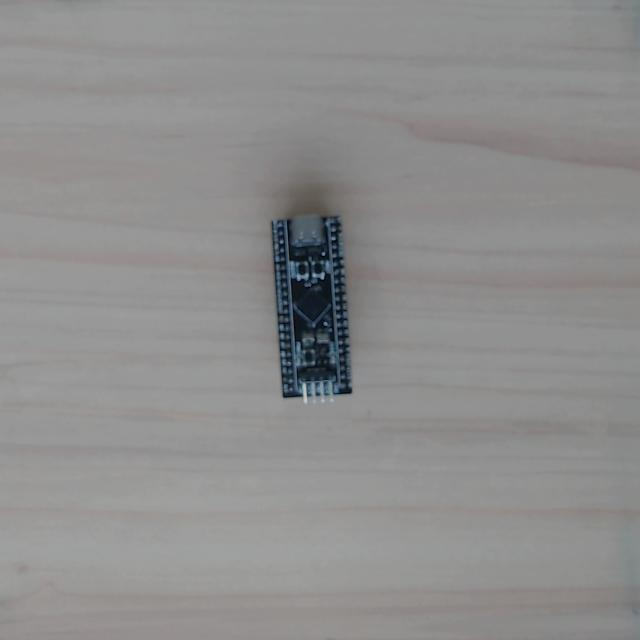STM32-Blackpill: (270, 213, 353, 404)
